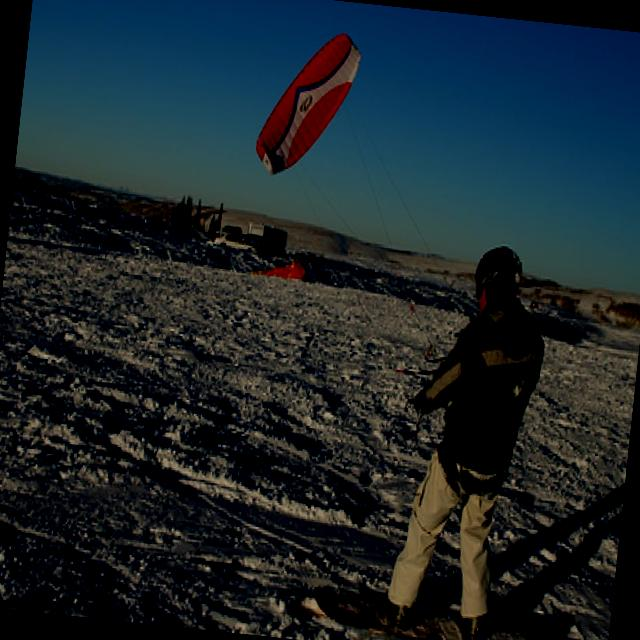Vehicle: (212, 232, 258, 254), (214, 223, 242, 240)
